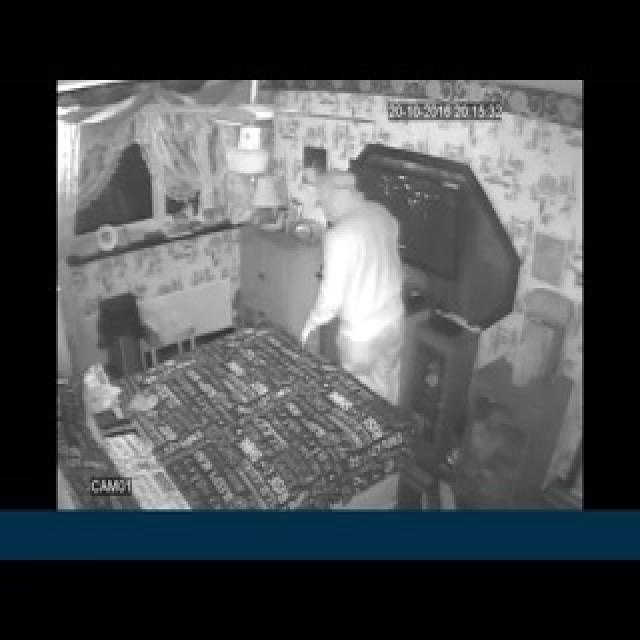thief: (295, 162, 408, 404)
